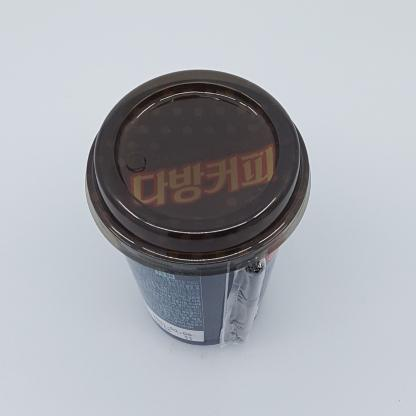----------: (85, 70, 311, 345)
